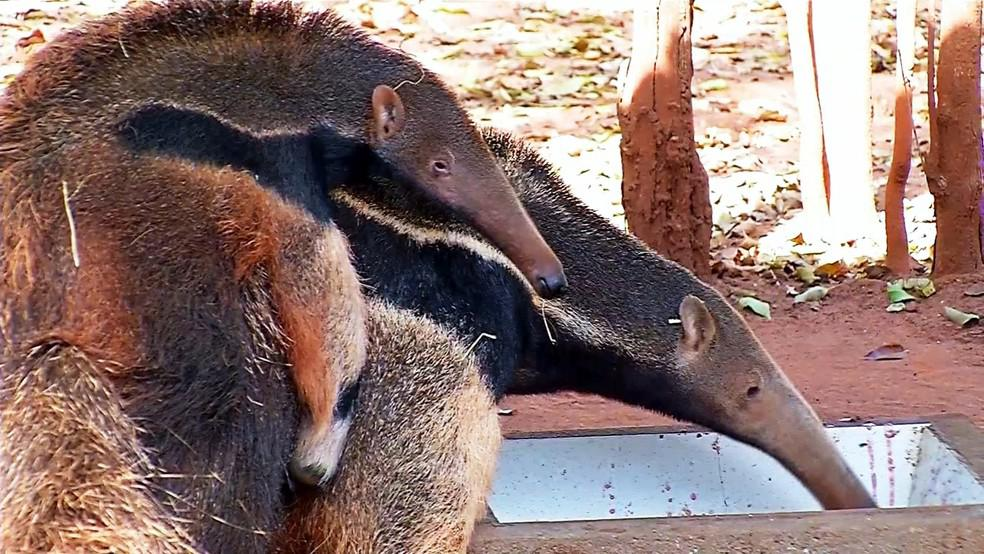TamanduaBandeira: (9, 80, 889, 548), (6, 5, 572, 486)
